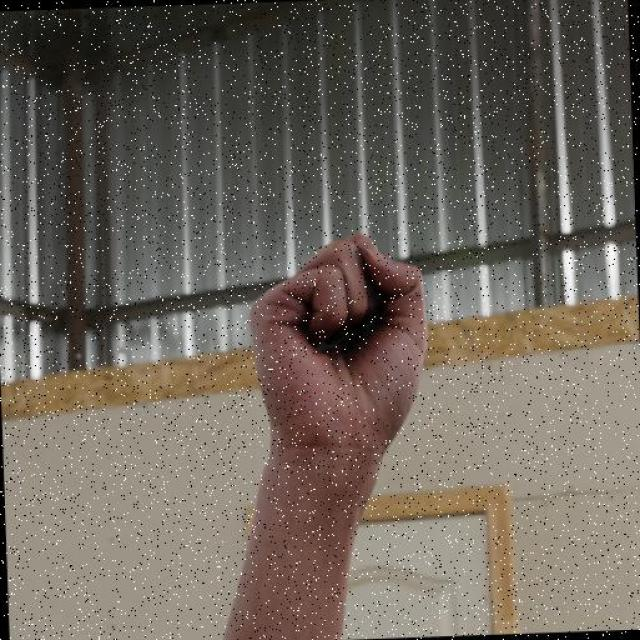S: (243, 227, 436, 464)
